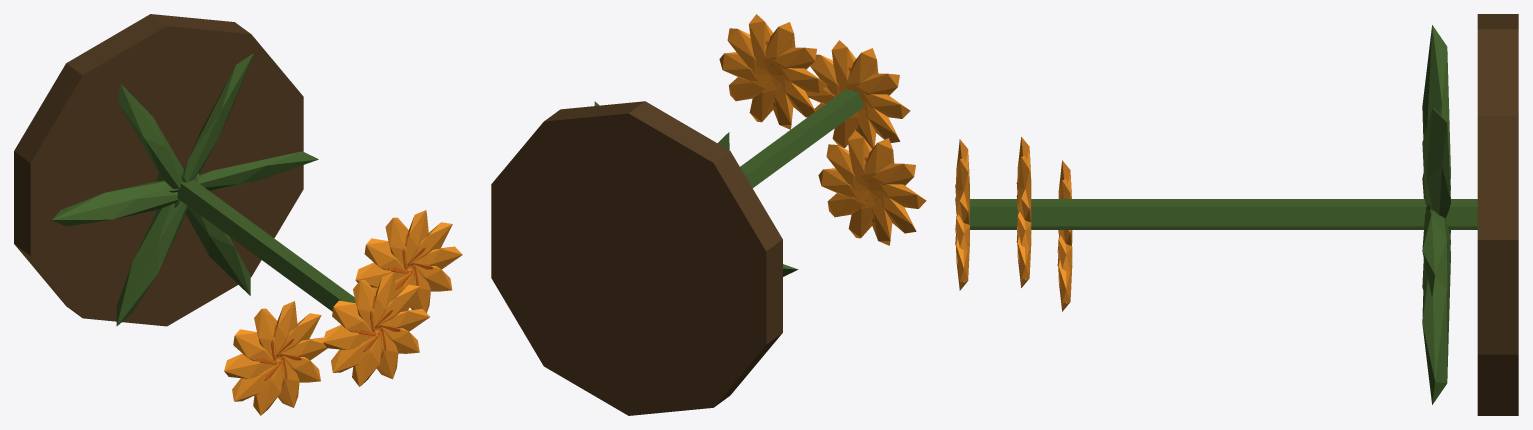
Rendered from 4_mature.obj.
3 renders of one model, left to right at view 1: azimuth 30°, elevation 25°; view 2: azimuth 150°, elevation 25°; view 3: azimuth 270°, elevation 25°, orthographic. The views are drawn at different scales.
Parts seen in each view (by area): view 1: marigold_4_mature; view 2: marigold_4_mature; view 3: marigold_4_mature.
Boxes of the visible parts, x1,y1,x2,y2 form: marigold_4_mature: (14,14,462,415); marigold_4_mature: (491,14,926,415); marigold_4_mature: (955,14,1518,415).
Bounding box in the file's own units: 0.1902 × 0.2 × 0.2751.
